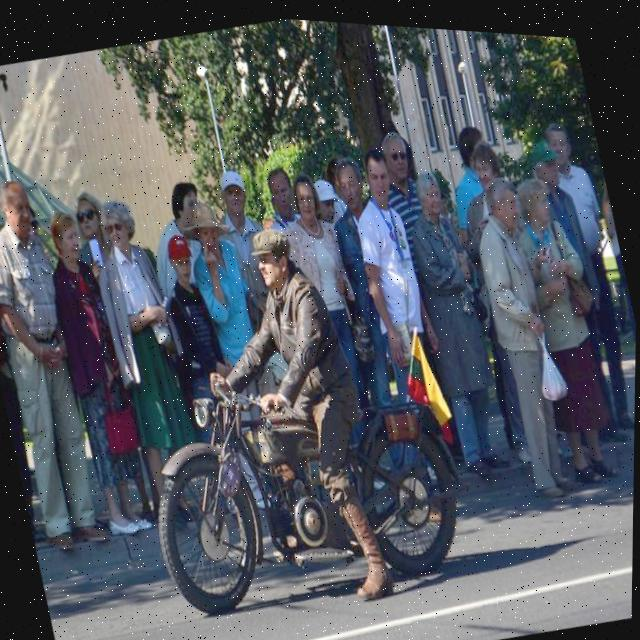motorcycle: (113, 306, 497, 640)
